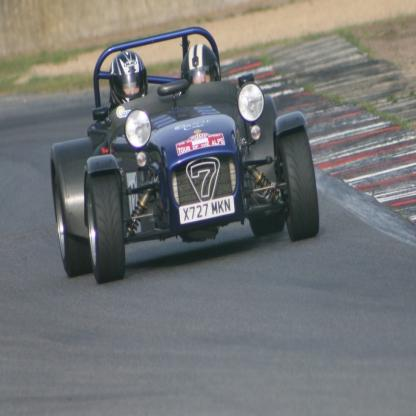Car: (51, 27, 321, 284)
